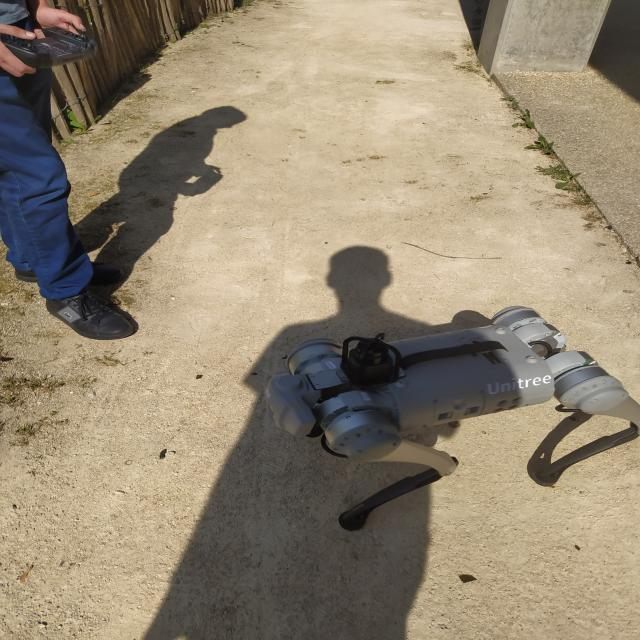unitree-go1-robot: (252, 293, 640, 537)
